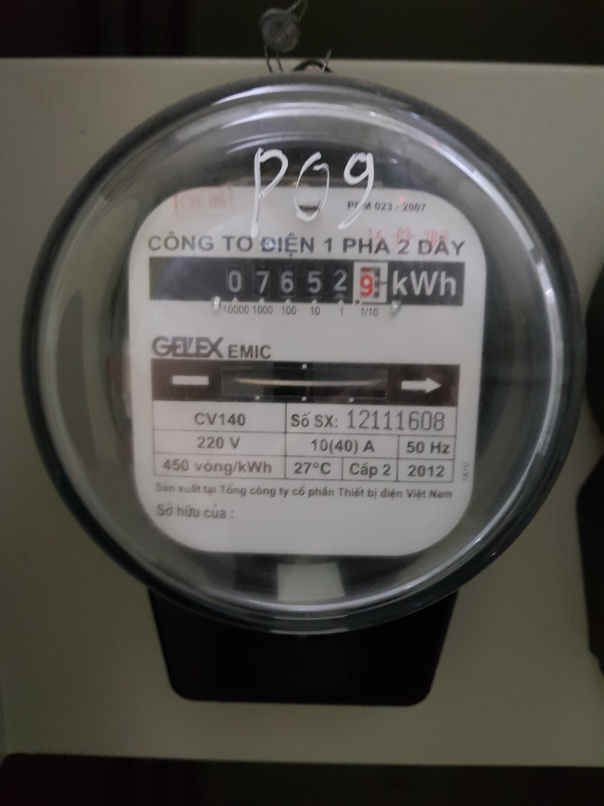counter: (149, 255, 464, 309)
electricity_meter: (26, 71, 584, 628)
